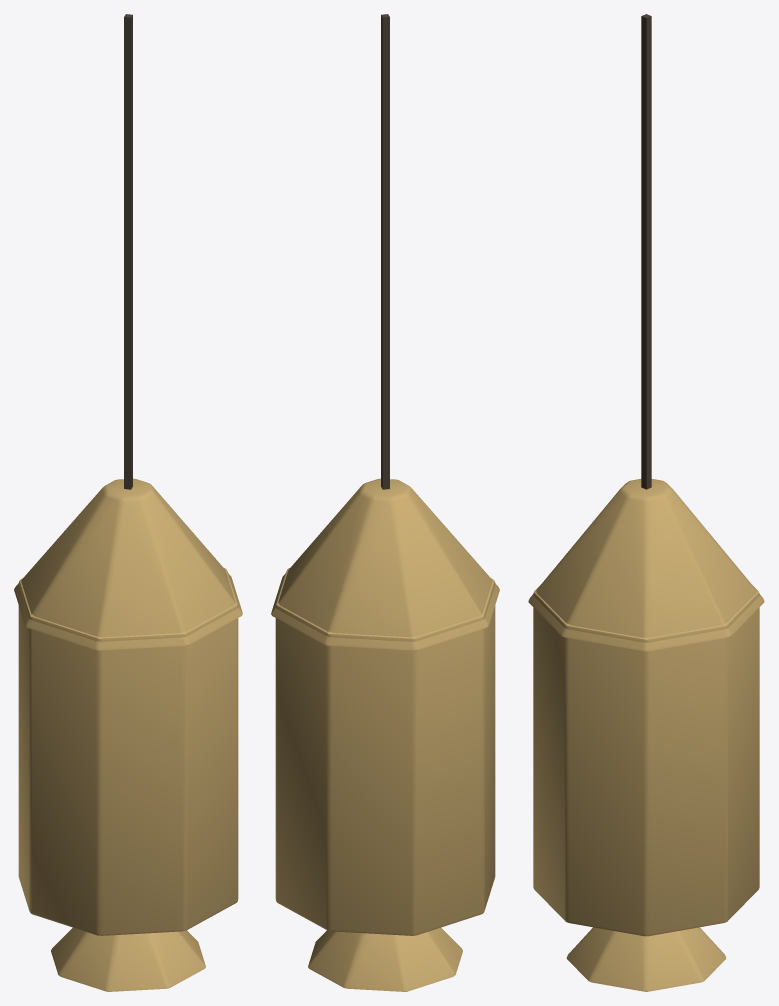
The model's file is HangDesert.fbx.
3 views of the same model, side by side, from view 1: azimuth 30°, elevation 25°; view 2: azimuth 150°, elevation 25°; view 3: azimuth 270°, elevation 25° (orthographic).
Parts seen in each view (by area): view 1: HangDesert; view 2: HangDesert; view 3: HangDesert.
Part boxes in pixels (left/top/right/bottom): HangDesert: left=14, top=14, right=242, bottom=991; HangDesert: left=271, top=14, right=499, bottom=991; HangDesert: left=528, top=14, right=764, bottom=991.
Size of the model in its own units: 186 by 820 by 186.
